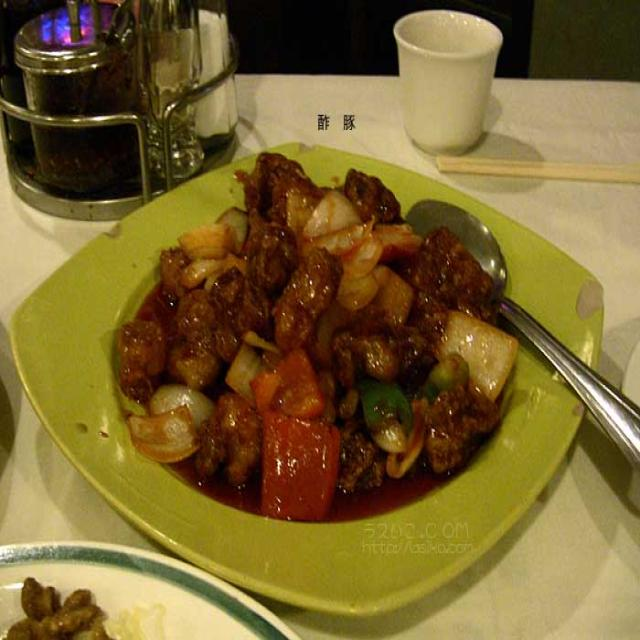猪肉菜式: (110, 148, 516, 530)
